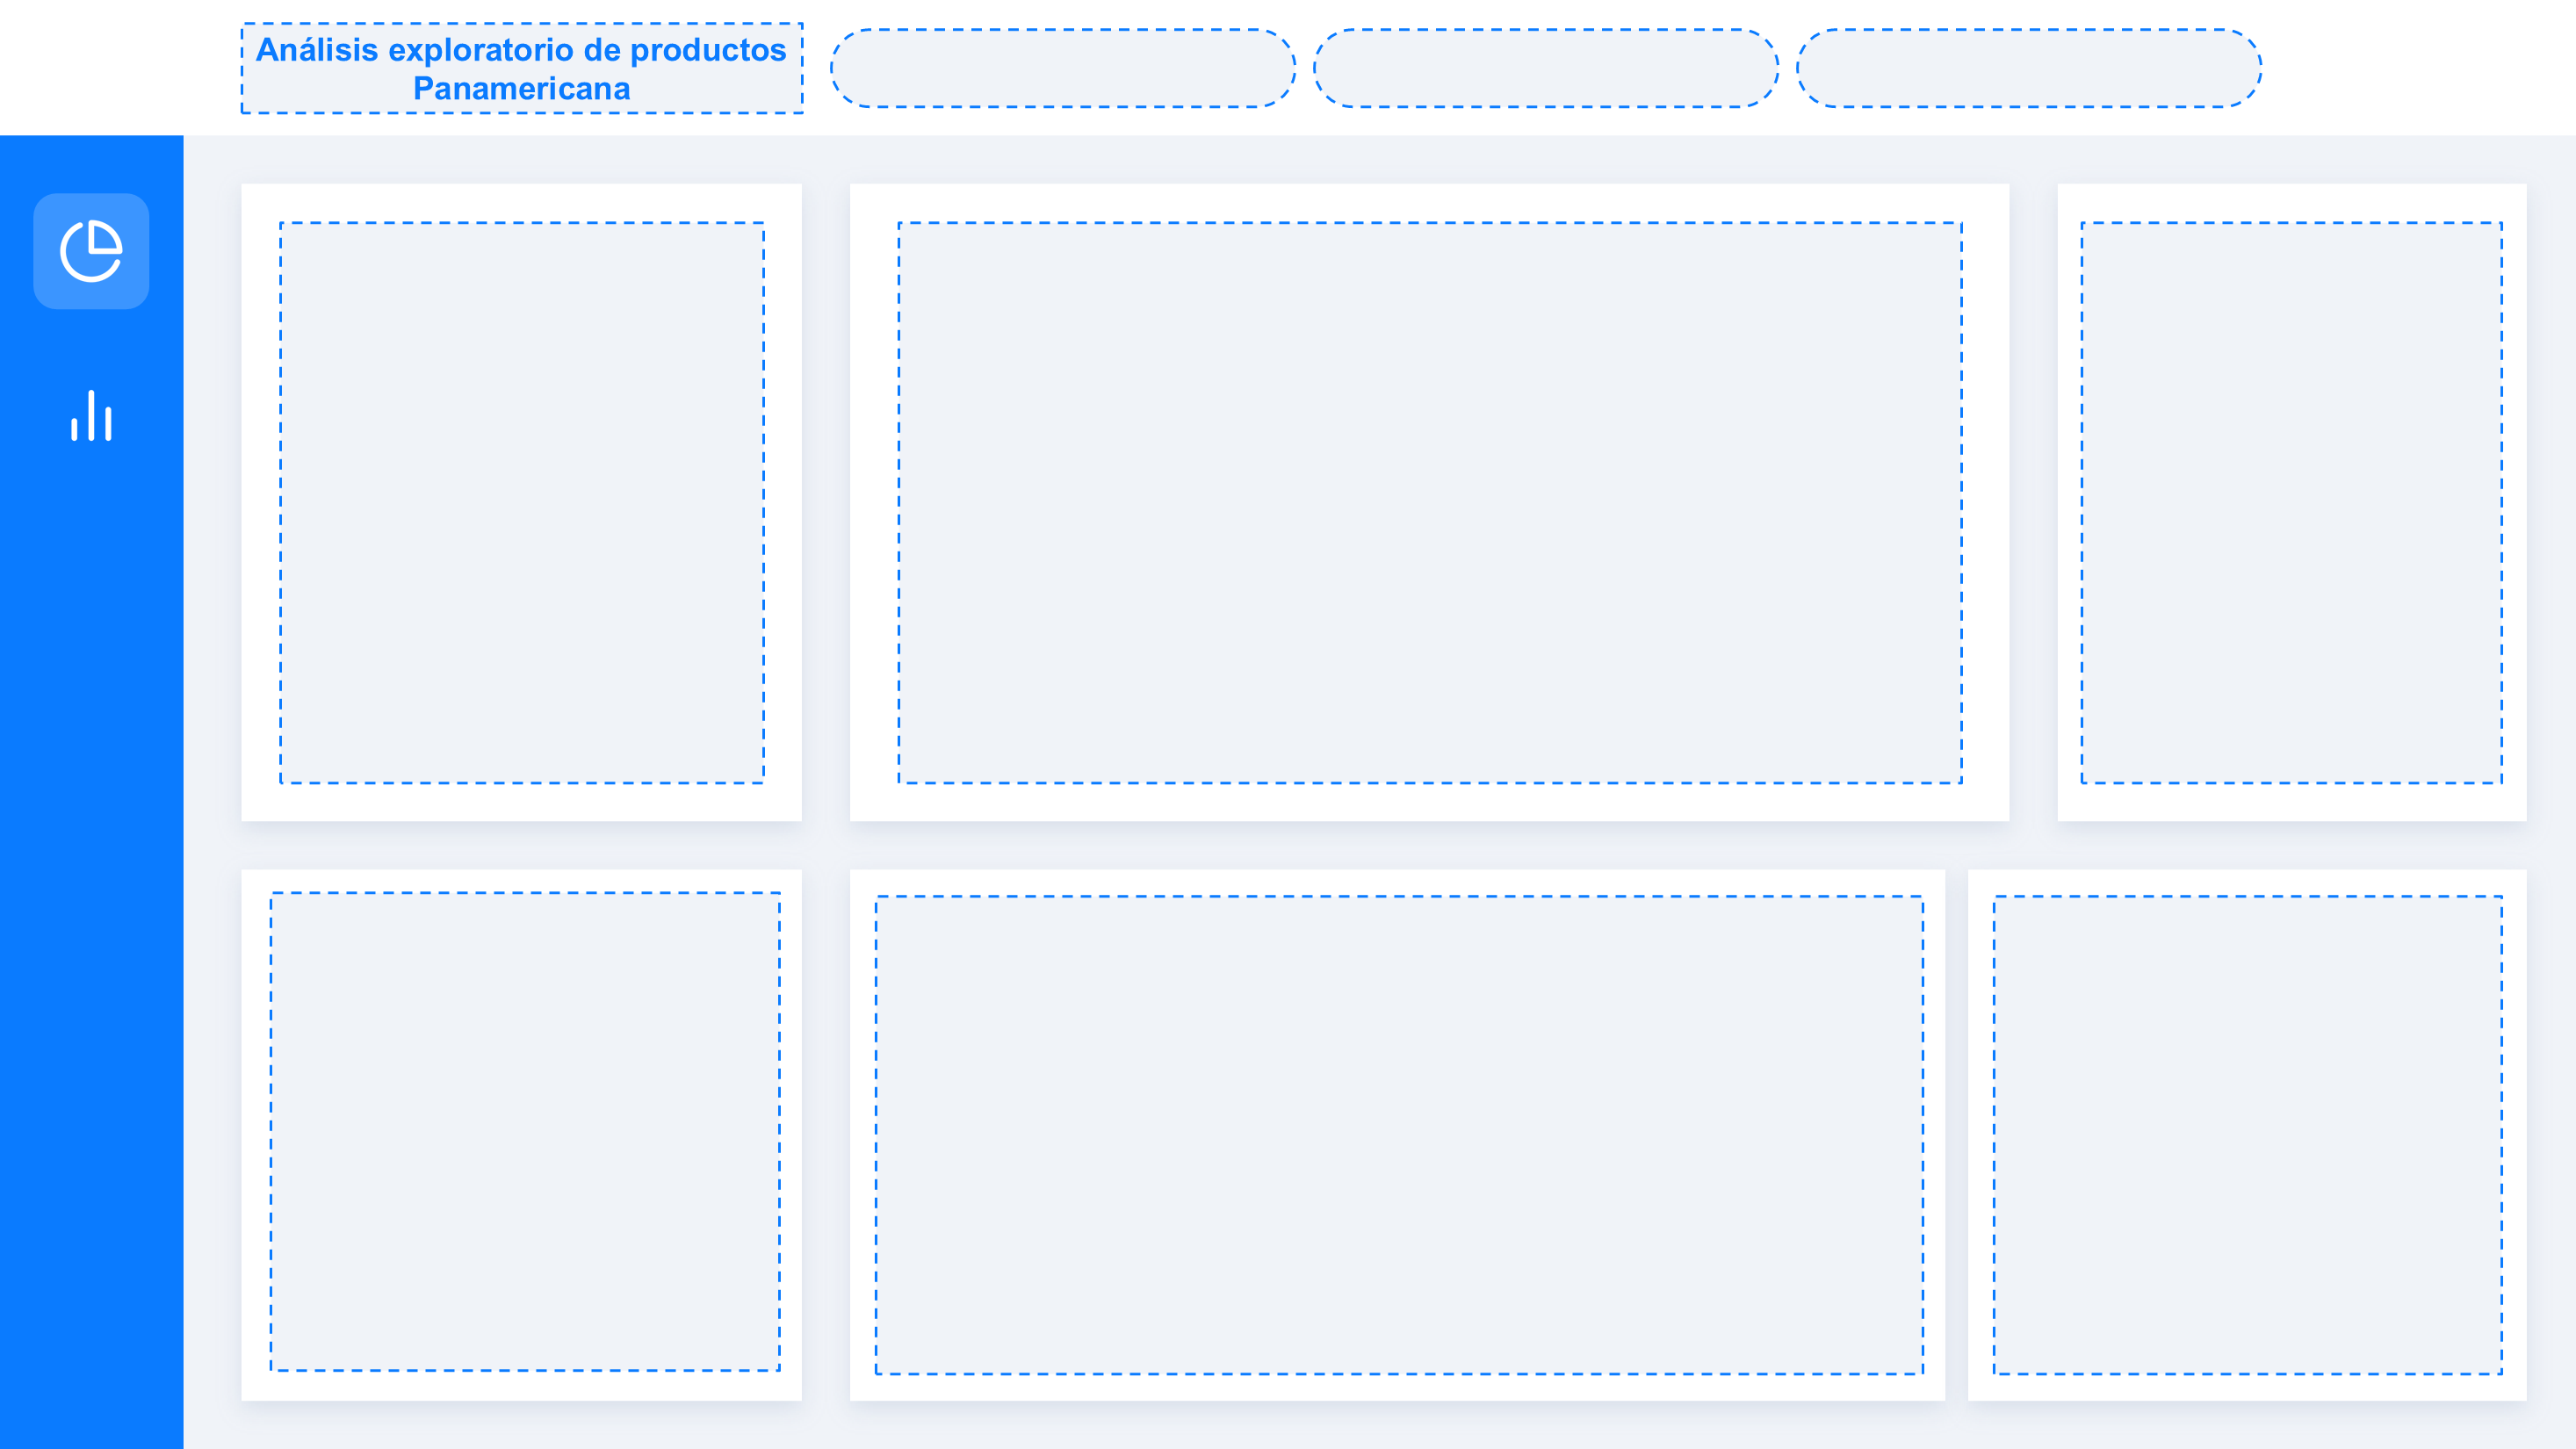

Layout of this report page (visuals, bound fields, positions):
{"tool":"powerbi","page":{"name":"Página 1","canvas":[1920,1080],"ordinal":0},"visuals":[{"type":"pythonVisual","fields":{"Values":["productos-panamericana.precio_cop","productos-panamericana.sku"]},"box":[1040,135,860,478.3],"z":0},{"type":"pythonVisual","fields":{"Values":["productos-panamericana.categoria_principal","productos-panamericana.sku"]},"box":[160,136.7,851.7,476.7],"z":1000},{"type":"pythonVisual","fields":{"Values":["productos-panamericana.sku","productos-panamericana.categoria_principal","productos-panamericana.precio_cop"]},"box":[160,633.3,851.7,418.3],"z":2000},{"type":"pythonVisual","fields":{"Values":["productos-panamericana.sku","productos-panamericana.marca","productos-panamericana.precio_cop"]},"box":[1040,633.3,860,418.3],"z":3000},{"type":"actionButton","box":[22,260,94,100],"z":4000},{"type":"textbox","box":[0,645,150,395],"z":5000},{"type":"textbox","box":[616,18,344,68],"z":6000},{"type":"textbox","box":[990,28,330,68],"z":7000},{"type":"shape","box":[964,18,732,68],"z":8000}]}

Visuals, with their boxes on the page's 1920x1080 design canvas (x1, y1, x2, y2). These are canvas units, not pixel positions in the 2576x1449 screenshot, which may show the page scaled, cropped or inside an application window:
pythonVisual - productos-panamericana.precio_cop x productos-panamericana.sku: x1=1040 y1=135 x2=1900 y2=613
pythonVisual - productos-panamericana.categoria_principal x productos-panamericana.sku: x1=160 y1=137 x2=1012 y2=613
pythonVisual - productos-panamericana.sku x productos-panamericana.categoria_principal: x1=160 y1=633 x2=1012 y2=1052
pythonVisual - productos-panamericana.sku x productos-panamericana.marca: x1=1040 y1=633 x2=1900 y2=1052
actionButton: x1=22 y1=260 x2=116 y2=360
textbox: x1=0 y1=645 x2=150 y2=1040
textbox: x1=616 y1=18 x2=960 y2=86
textbox: x1=990 y1=28 x2=1320 y2=96
shape: x1=964 y1=18 x2=1696 y2=86
